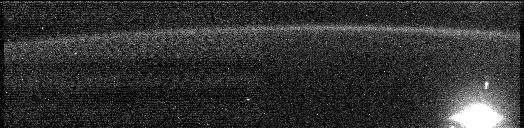positive: (481, 78, 493, 95)
